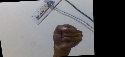hand: (52, 21, 83, 53)
